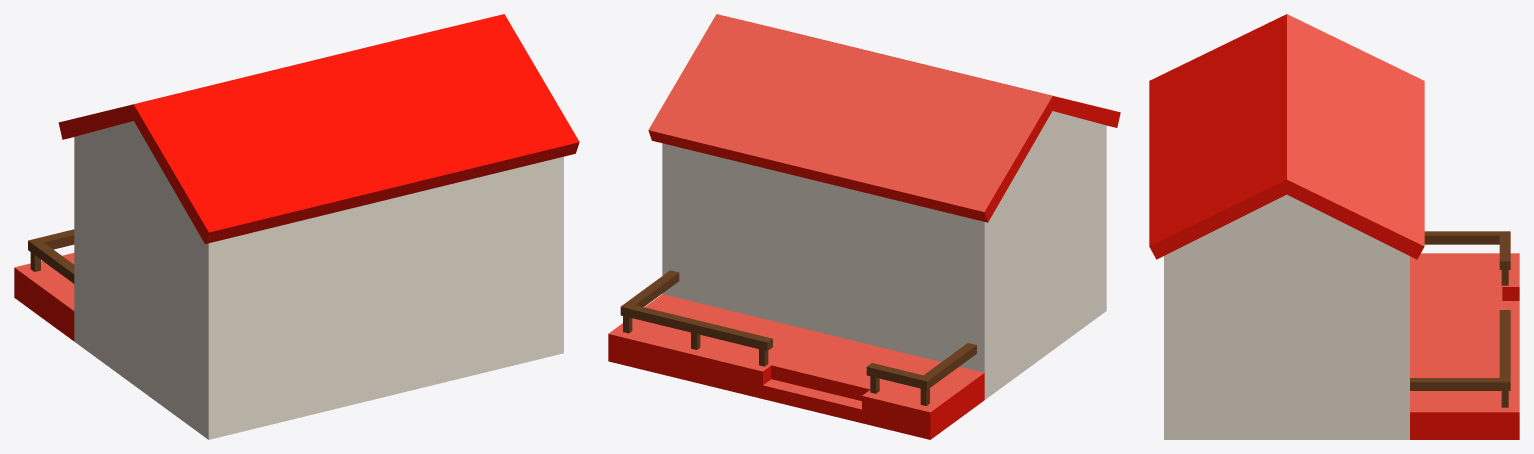
File: Map-House-S-Lv2-R.fbx
The picture shows the model from 3 angles, left to right: view 1: azimuth 30°, elevation 25°; view 2: azimuth 150°, elevation 25°; view 3: azimuth 270°, elevation 25°; orthographic projection. The views are drawn at different scales.
Parts seen in each view (by area): view 1: Map-House-S-Lv2-R; view 2: Map-House-S-Lv2-R; view 3: Map-House-S-Lv2-R.
Part boxes in pixels (left/top/right/bottom): Map-House-S-Lv2-R: left=14, top=14, right=579, bottom=439; Map-House-S-Lv2-R: left=608, top=14, right=1120, bottom=439; Map-House-S-Lv2-R: left=1149, top=14, right=1519, bottom=439.
Size of the model in its own units: 1.68 by 1.25 by 1.59.
